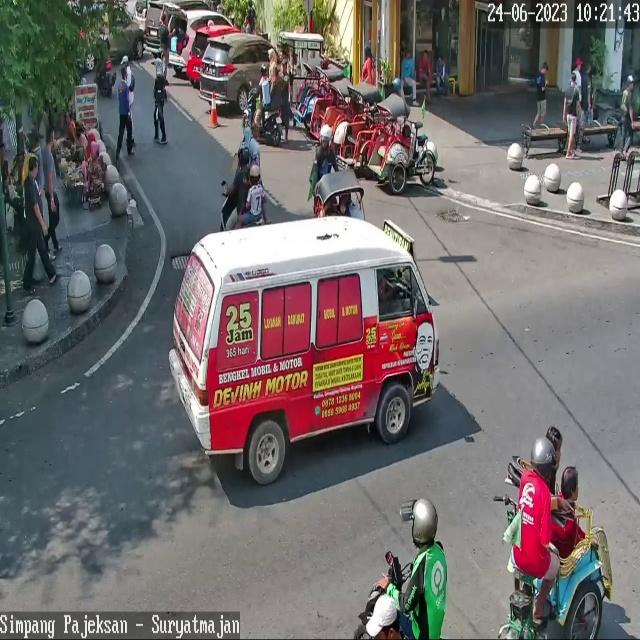bus: (352, 555, 411, 640), (240, 87, 281, 147), (220, 180, 266, 228), (97, 59, 119, 96)
motorcycle: (169, 216, 440, 487), (201, 34, 281, 104), (85, 0, 144, 71), (164, 9, 233, 67), (144, 0, 212, 54), (186, 24, 242, 82)
